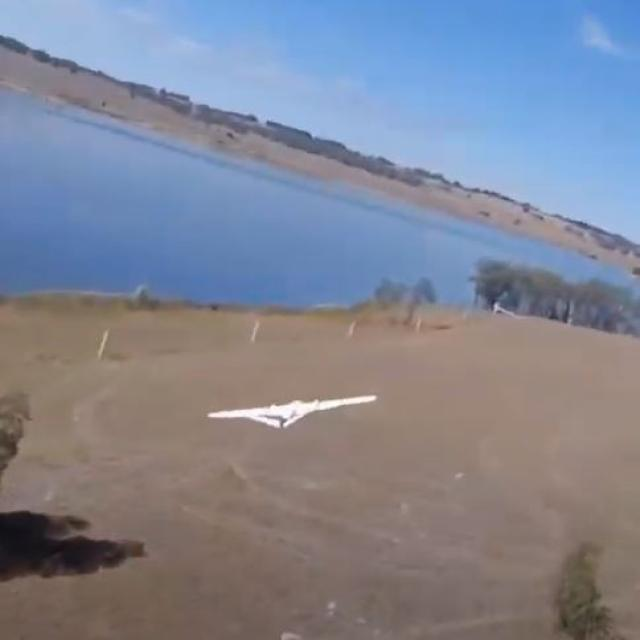iha: (206, 394, 376, 429)
